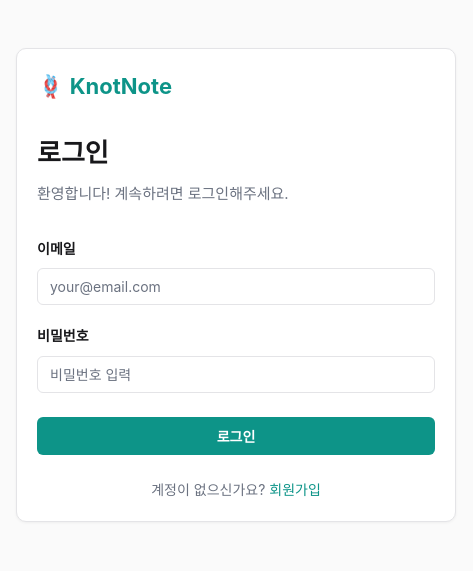
Test: LoginPage › 로그인 실패 시 서버 메시지를 표시하고 이동하지 않는다
The width and height of the screenshot is (473, 571).
Step 1. Type "user@test.local" into the field labelled "이메일" → (236, 287), box [37,268,435,305]
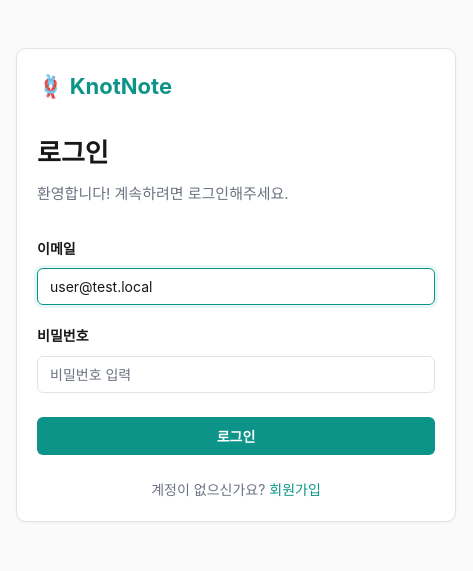
Step 2. Type "wrong" into the password field labelled "비밀번호" → (236, 374), box [37,356,435,393]
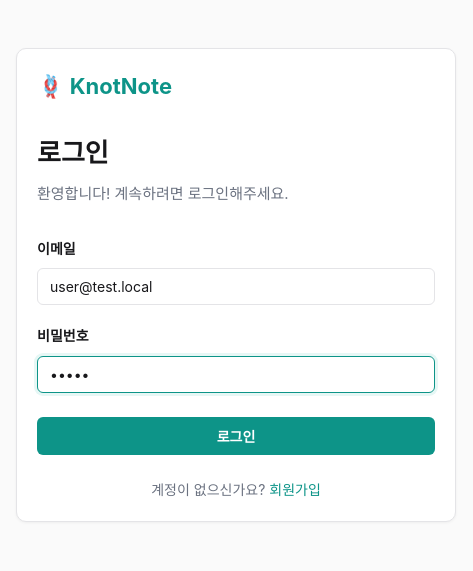
Step 3. Click the button "로그인" → click(236, 436), box [37,417,435,455]
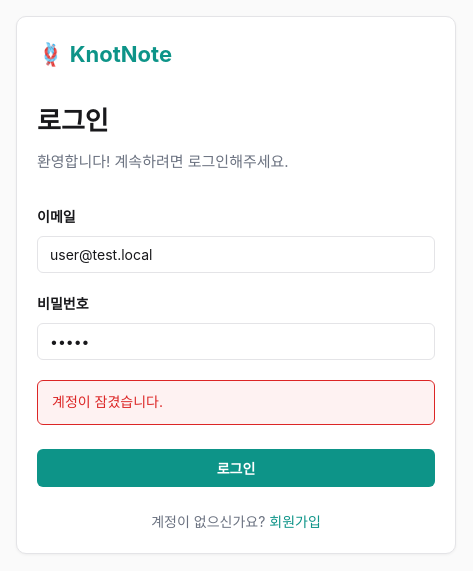
Result: the text "계정이 잠겼습니다." is shown at [37,380,435,425]
